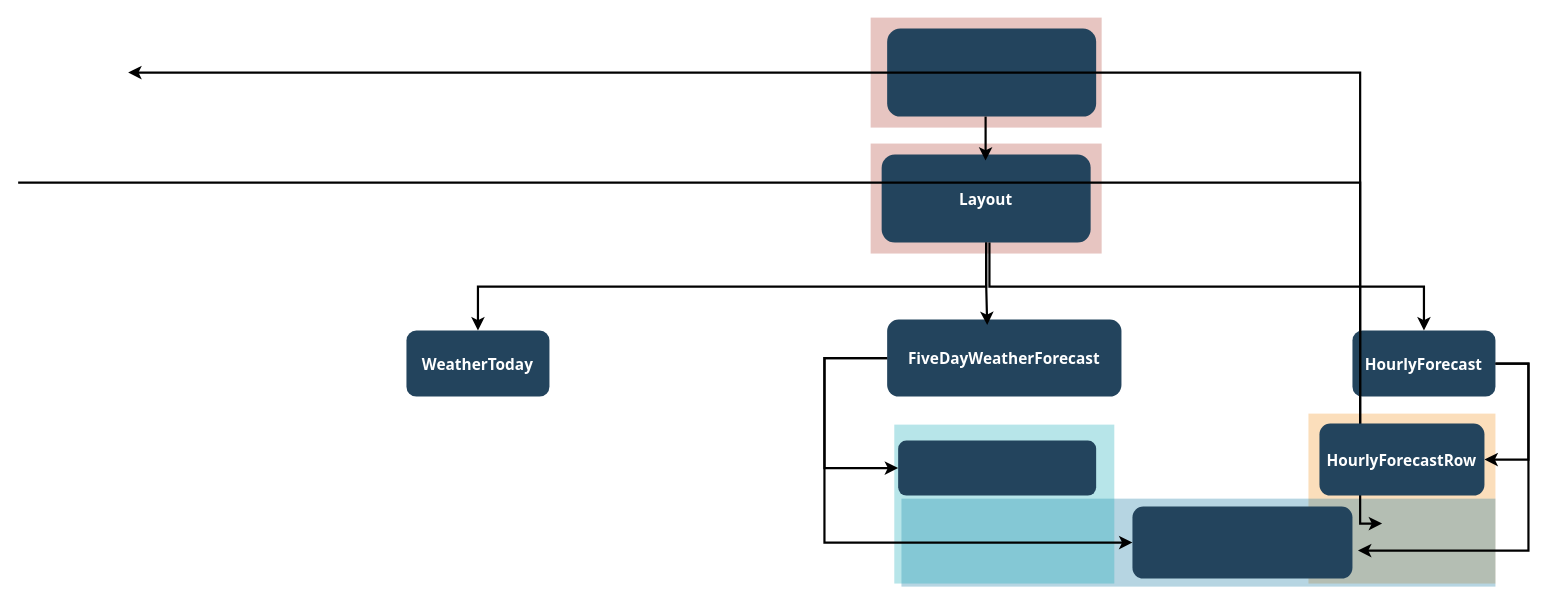
Some shapes in this 1547 by 605 pixel diagram are drawn without their labels. Here are the shapes that lost their labels. From the top down, the box of each, then its label:
(887, 28, 1096, 116): App
(898, 440, 1096, 495): DailyWeatherForecast
(1132, 506, 1352, 578): WeatherForecastImage
